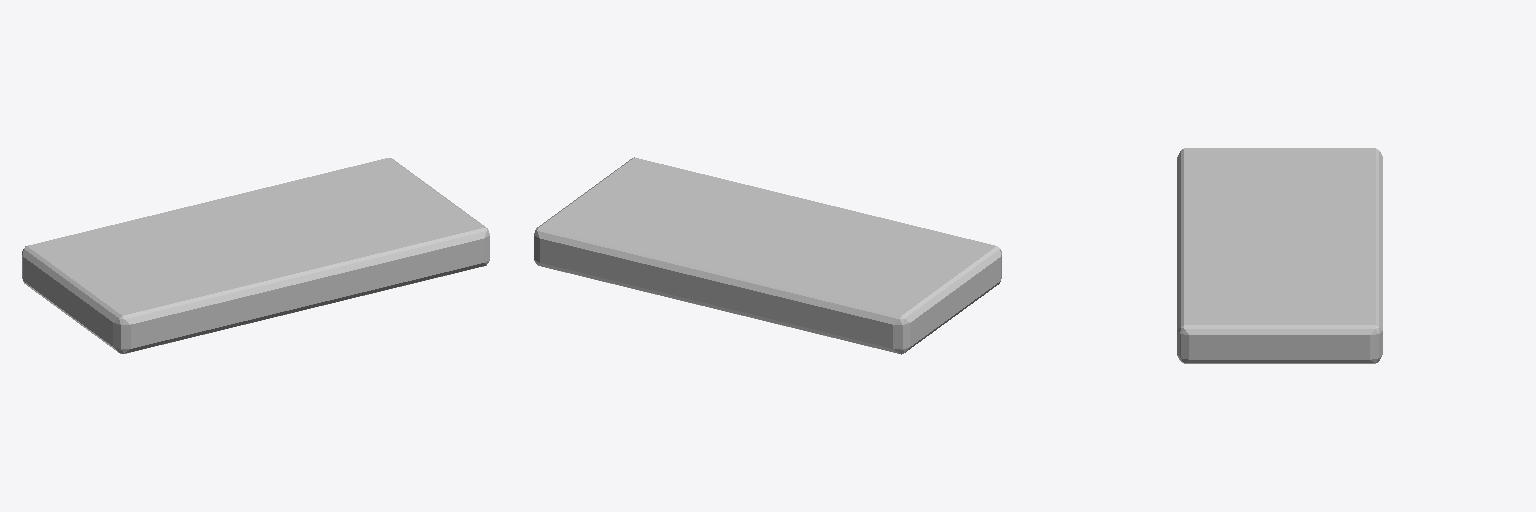
Rendered from travesseiro.obj.
3 views of the same model, side by side, from view 1: azimuth 30°, elevation 25°; view 2: azimuth 150°, elevation 25°; view 3: azimuth 270°, elevation 25° (orthographic).
Parts seen in each view (by area): view 1: travesseiro_Travesseiro_Cube.001; view 2: travesseiro_Travesseiro_Cube.001; view 3: travesseiro_Travesseiro_Cube.001.
Part boxes in pixels (bbox=[...]): travesseiro_Travesseiro_Cube.001: bbox=[22, 158, 489, 353]; travesseiro_Travesseiro_Cube.001: bbox=[534, 157, 1001, 354]; travesseiro_Travesseiro_Cube.001: bbox=[1177, 148, 1382, 363].
Size of the model in its own units: 2.05 by 0.2013 by 0.9746.